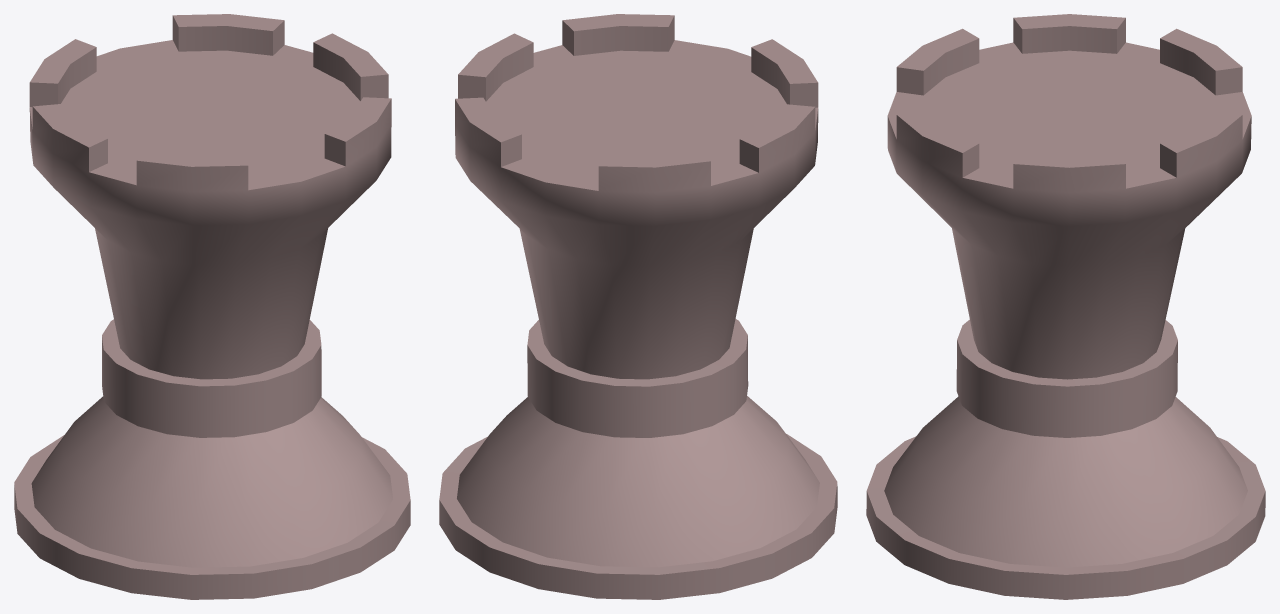
The model's file is KR_Model_GuardTower_v04_Vang.fbx.
The picture shows the model from 3 angles, left to right: view 1: azimuth 30°, elevation 25°; view 2: azimuth 150°, elevation 25°; view 3: azimuth 270°, elevation 25°; orthographic projection.
Parts seen in each view (by area): view 1: pCylinder7; view 2: pCylinder7; view 3: pCylinder7.
Part boxes in pixels (x1=…): pCylinder7: x1=14, y1=14, x2=410, y2=599; pCylinder7: x1=439, y1=14, x2=837, y2=599; pCylinder7: x1=866, y1=14, x2=1265, y2=599.
Size of the model in its own units: 3.97 by 4.67 by 3.97.
